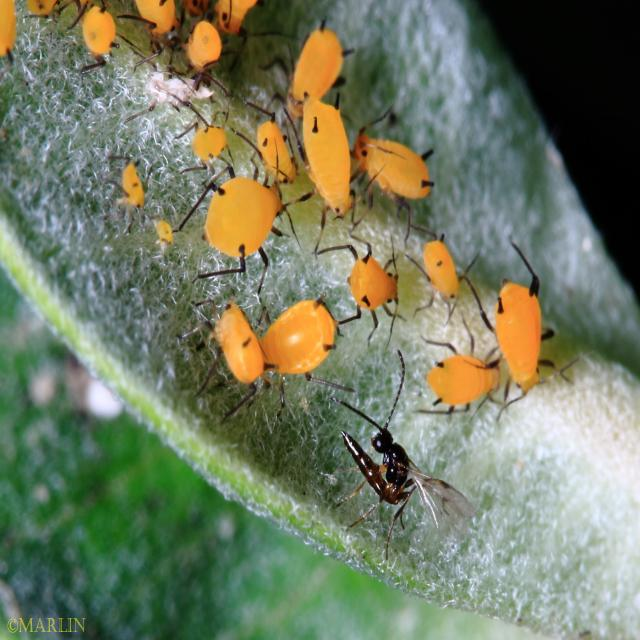Aphid-Grouped-: (74, 3, 593, 435)
Aphid-Grown-: (182, 148, 304, 287), (477, 253, 578, 396), (244, 279, 358, 401), (312, 227, 416, 336), (348, 116, 452, 214), (293, 94, 362, 235), (423, 329, 519, 426), (272, 17, 356, 116), (408, 230, 482, 318), (170, 112, 238, 178)
